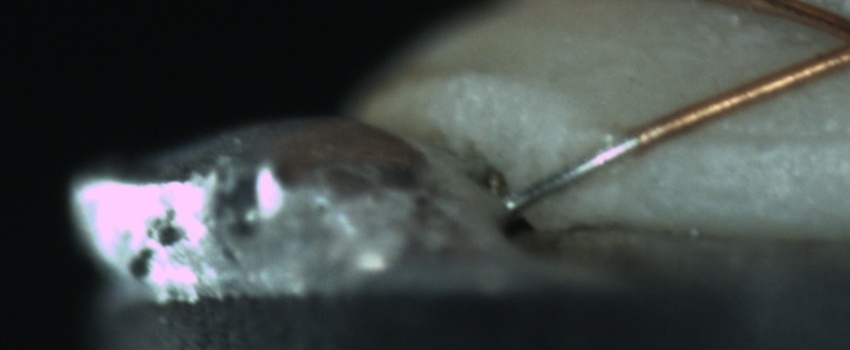DL: (672, 103, 849, 167)
TS: (503, 133, 646, 211)
